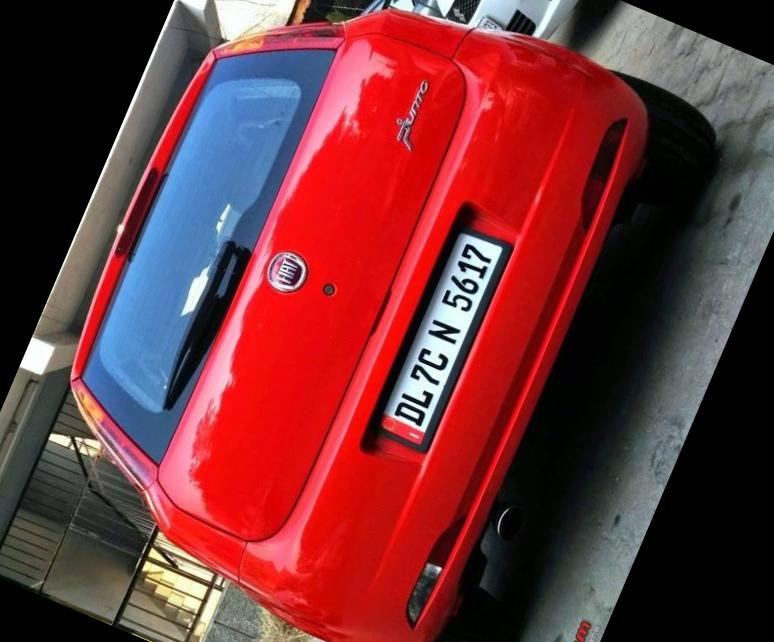plate: (364, 210, 538, 467)
